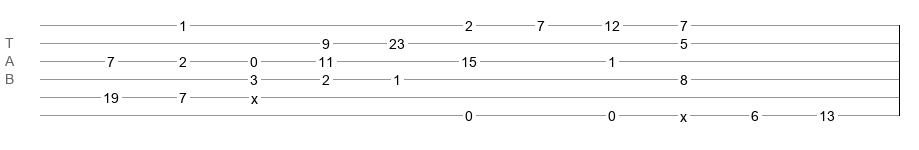0: (250, 54, 258, 64), (465, 108, 473, 118), (608, 108, 616, 118)
1: (179, 18, 187, 28), (393, 72, 401, 82), (608, 54, 616, 64)
11: (318, 54, 334, 64)
12: (604, 18, 620, 28)
13: (819, 108, 835, 118)
15: (461, 54, 477, 64)
19: (103, 90, 119, 100)
2: (179, 54, 187, 64), (322, 72, 330, 82), (465, 18, 473, 28)
23: (389, 36, 405, 46)
3: (250, 72, 258, 82)
5: (680, 36, 688, 46)
6: (751, 108, 759, 118)
7: (107, 54, 115, 64), (179, 90, 187, 100), (537, 18, 545, 28), (680, 18, 688, 28)
8: (680, 72, 688, 82)
9: (322, 36, 330, 46)
x: (251, 91, 258, 99), (680, 109, 687, 117)
